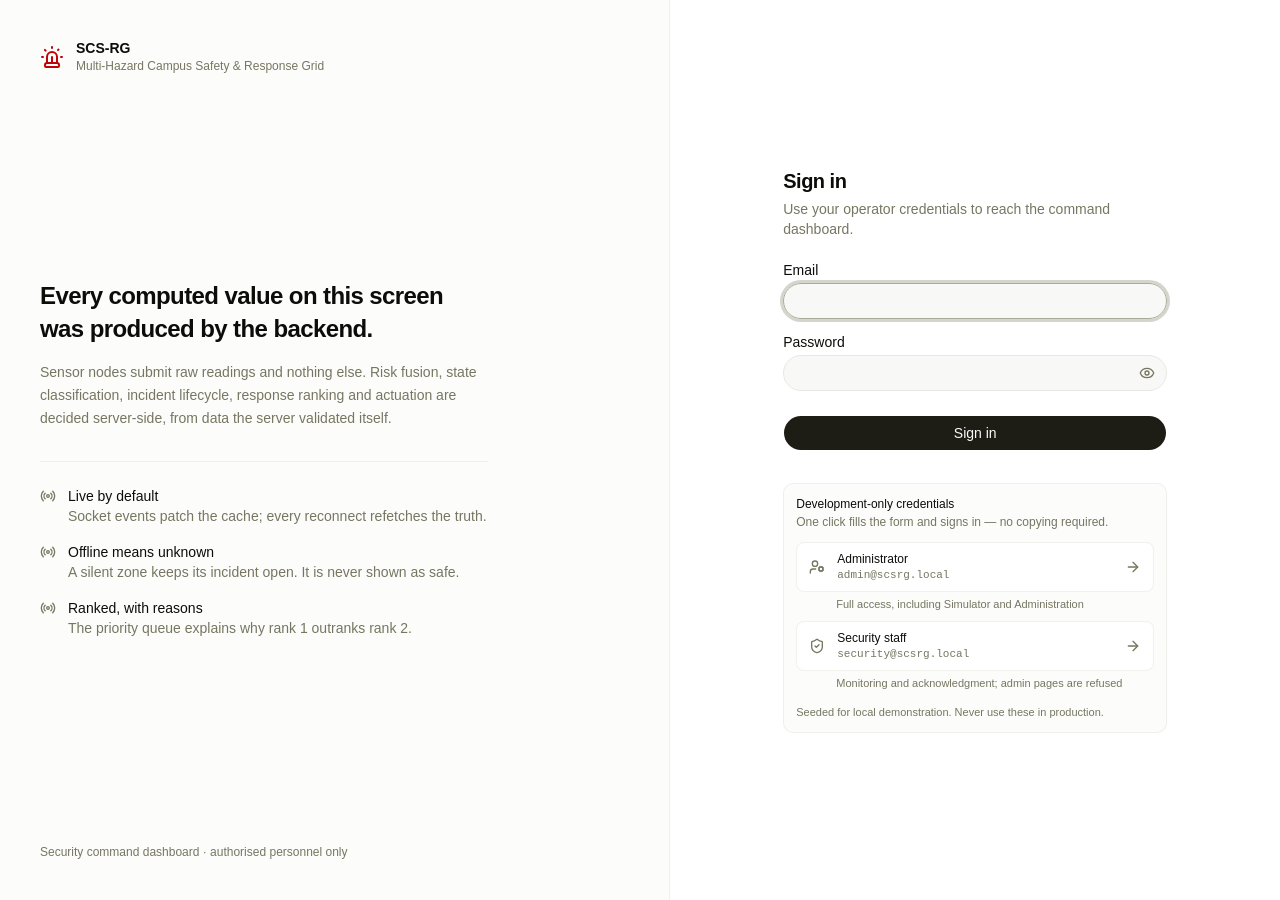
Test case: login › surfaces a server rejection inline rather than failing silently
Type "security@scsrg.local" into the field labelled "Email".
click(975, 301); type("security@scsrg.local")  # box top-left (783, 283), bottom-right (1167, 319)
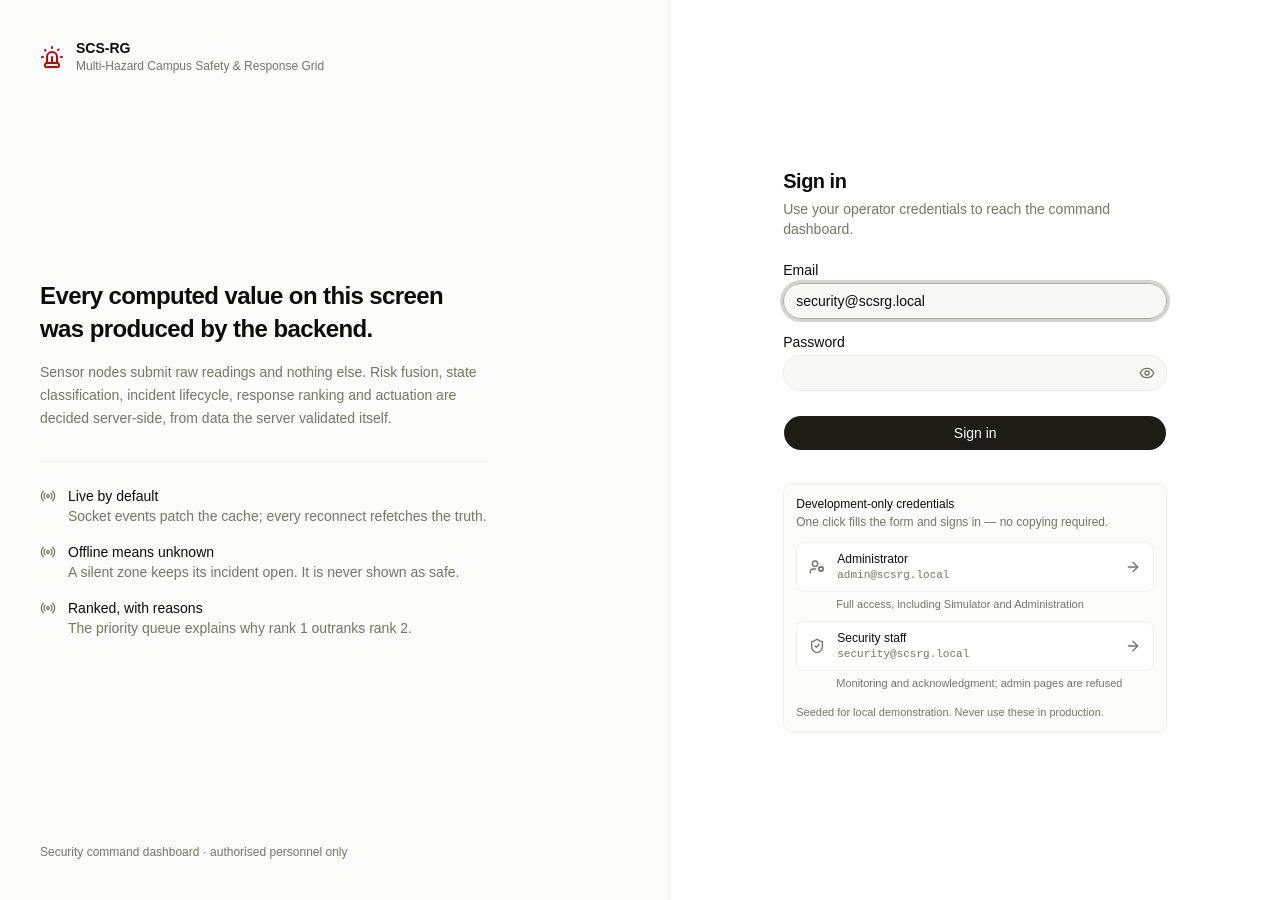
Type "WrongPassword1!" into the password field labelled "Password".
click(975, 373); type("WrongPassword1!")  # box top-left (783, 355), bottom-right (1167, 391)
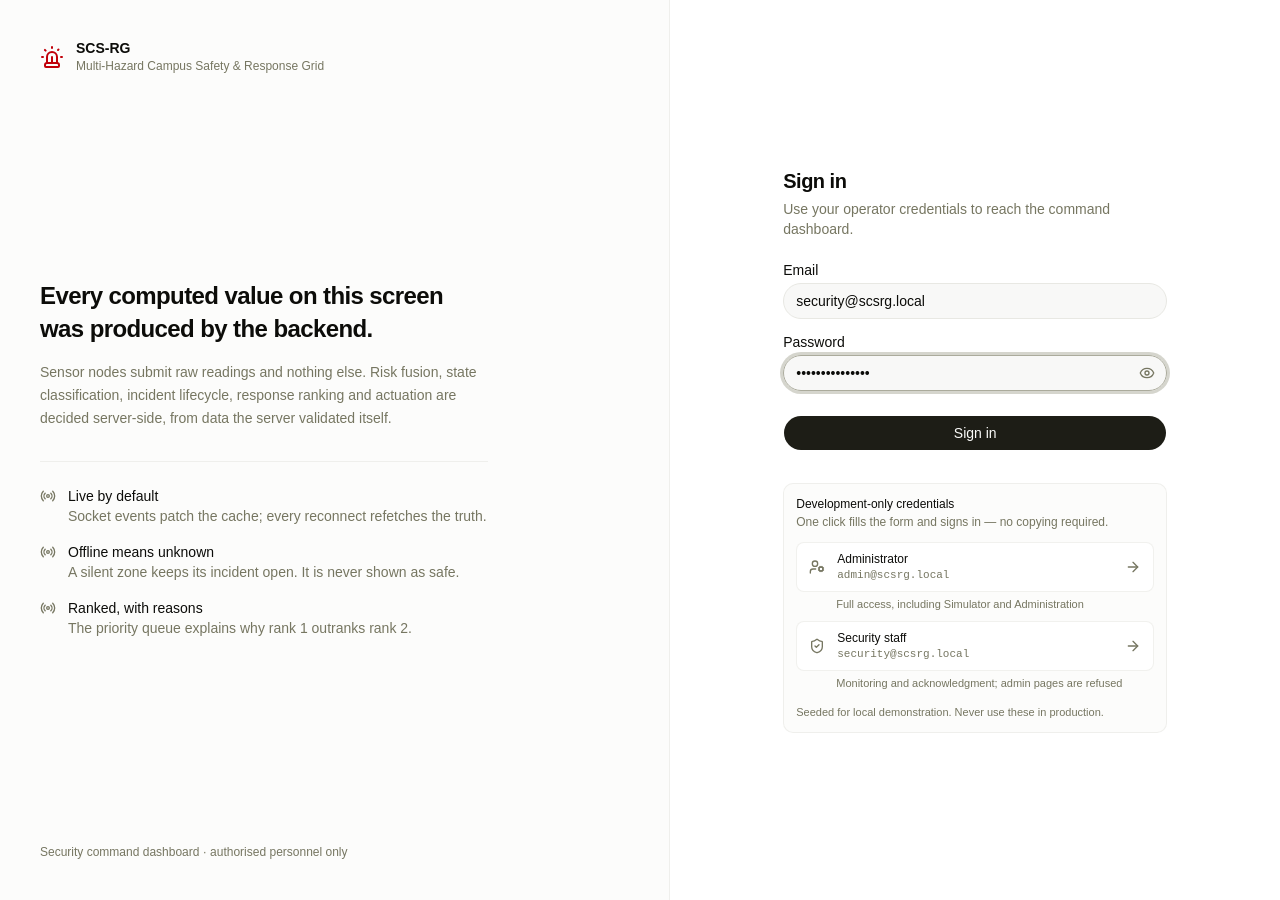
Click the button "Sign in".
click(975, 433)  # box top-left (783, 415), bottom-right (1167, 451)
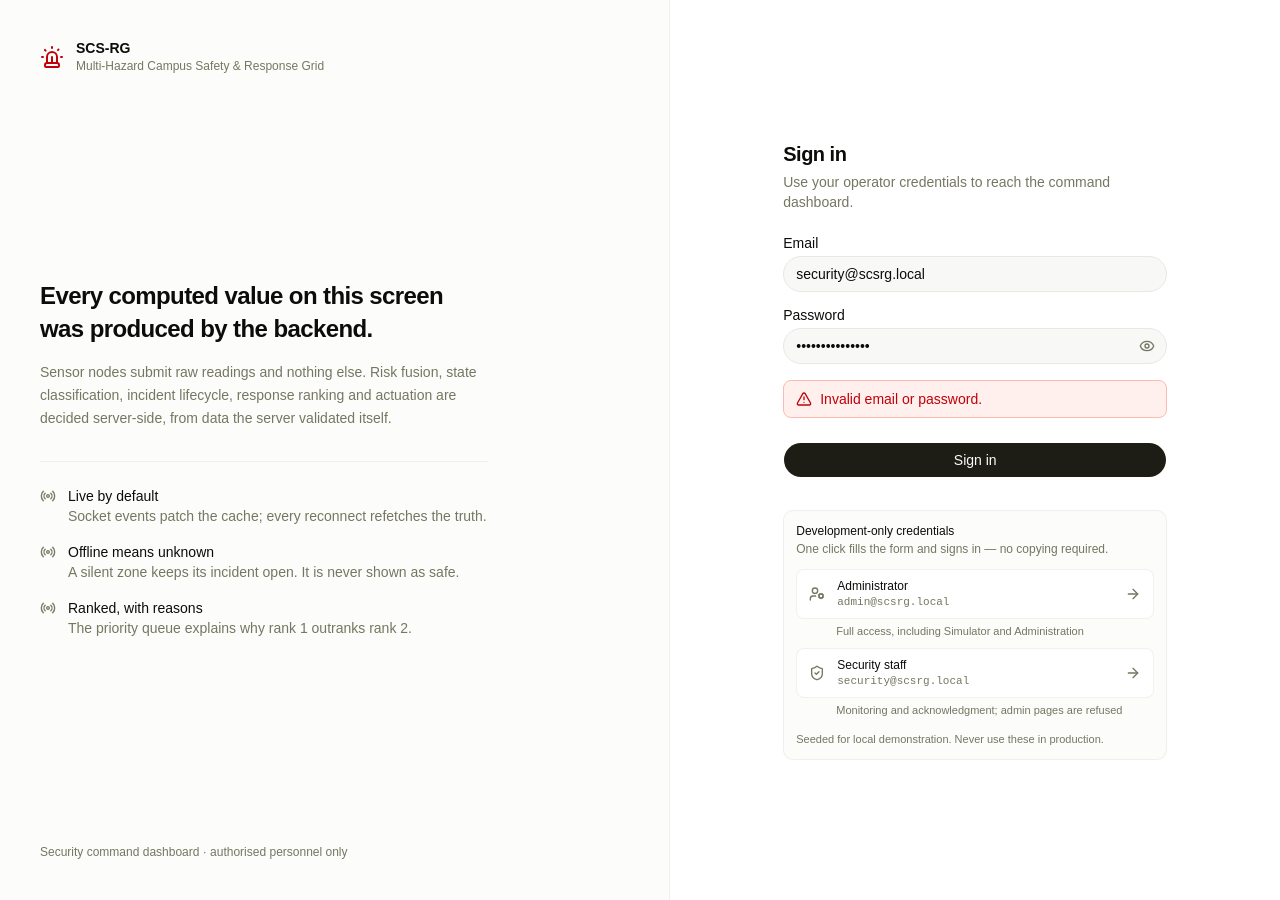
Check: the text "Invalid email or password." is shown, box top-left (783, 380), bottom-right (1167, 418)
